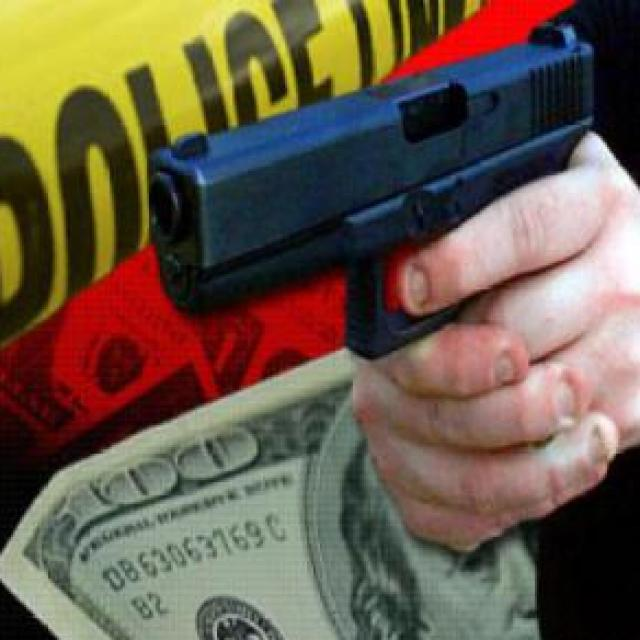pistol: (144, 24, 602, 367)
